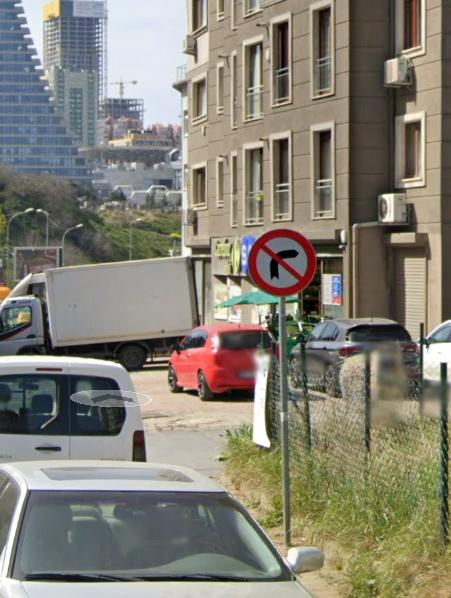rightturnsareforbidden: (246, 232, 316, 294)
